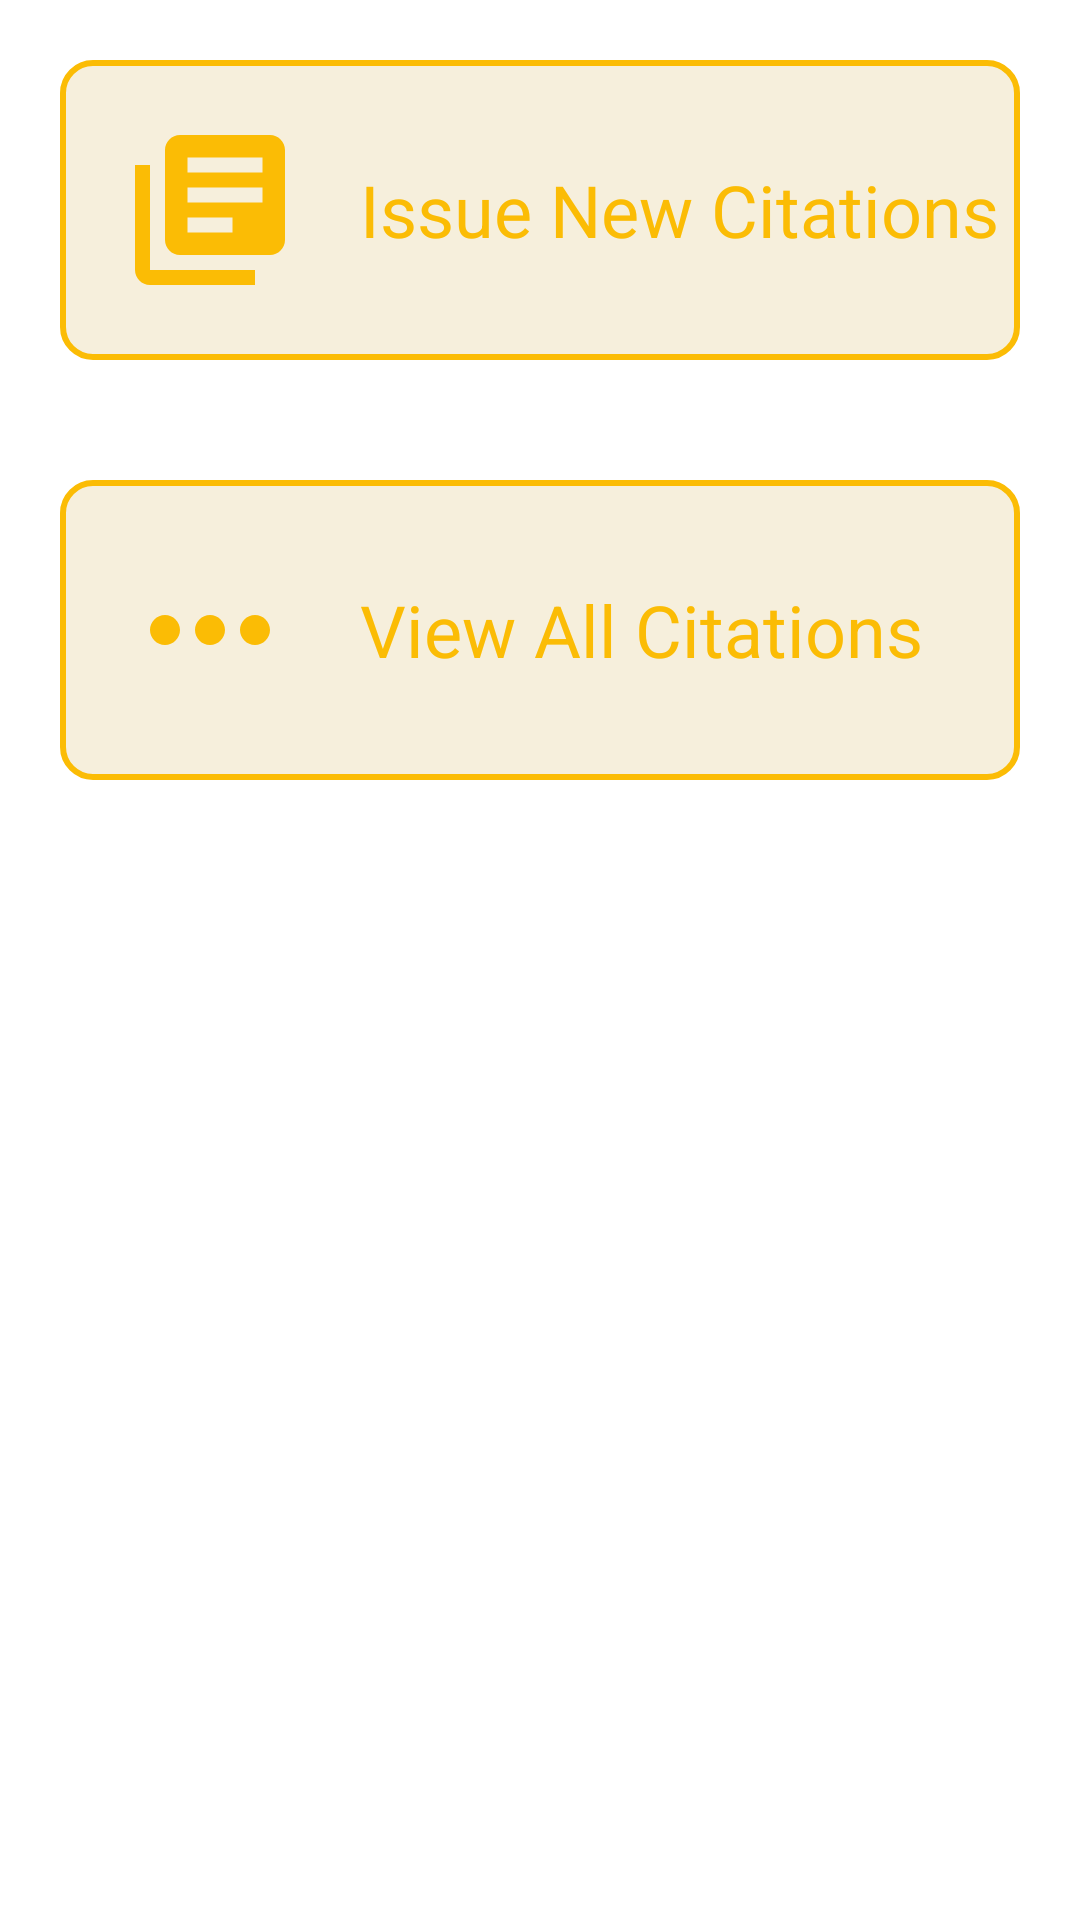

Where to tap for icons on this 1080 × 1920 app screen, as [x,y]:
library books: [210,210]
more horiz: [210,630]
